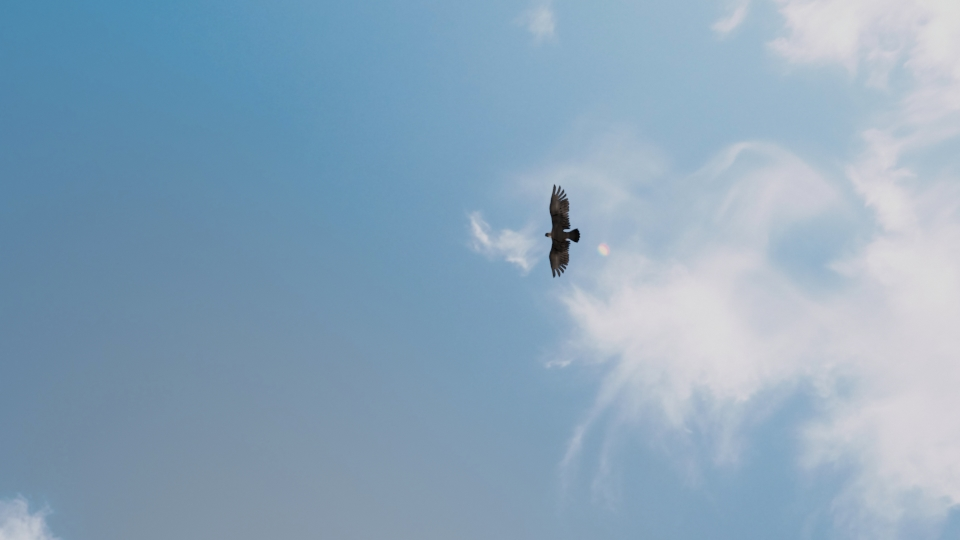bird: (545, 184, 579, 277)
